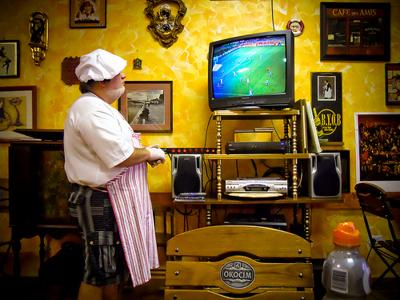person: (65, 49, 166, 300)
